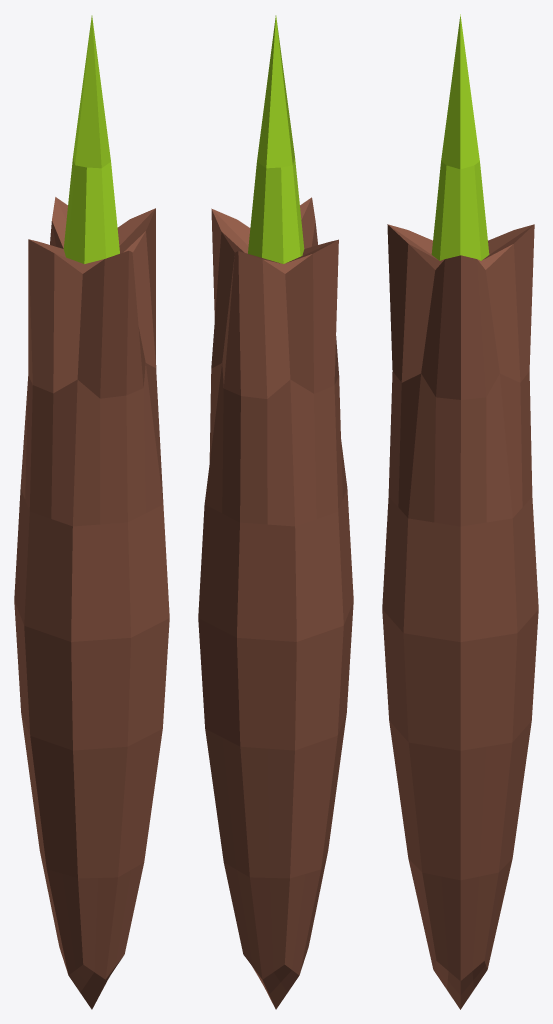
The model's file is tohum1sprout2.fbx.
3 renders of one model, left to right at view 1: azimuth 30°, elevation 25°; view 2: azimuth 150°, elevation 25°; view 3: azimuth 270°, elevation 25°, orthographic.
Parts seen in each view (by area): view 1: Cube; view 2: Cube; view 3: Cube.
Boxes of the visible parts, left/top/right/bottom form: Cube: left=14, top=15, right=169, bottom=1009; Cube: left=198, top=15, right=353, bottom=1009; Cube: left=382, top=14, right=538, bottom=1009.
Bounding box in the file's own units: 19.39 × 19.39 × 136.
